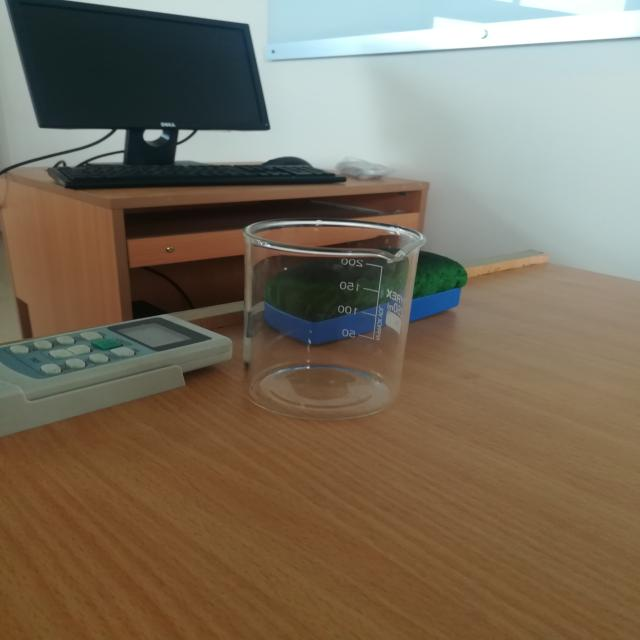Beaker: (192, 163, 450, 440)
